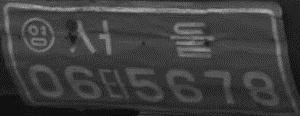0: (27, 62, 63, 99)
5: (127, 67, 164, 103)
6: (64, 63, 100, 100), (165, 68, 202, 104)
7: (204, 68, 235, 106)
8: (241, 69, 279, 107)
서울_D: (69, 18, 214, 58)
영: (20, 16, 56, 53)
타: (100, 67, 127, 100)
